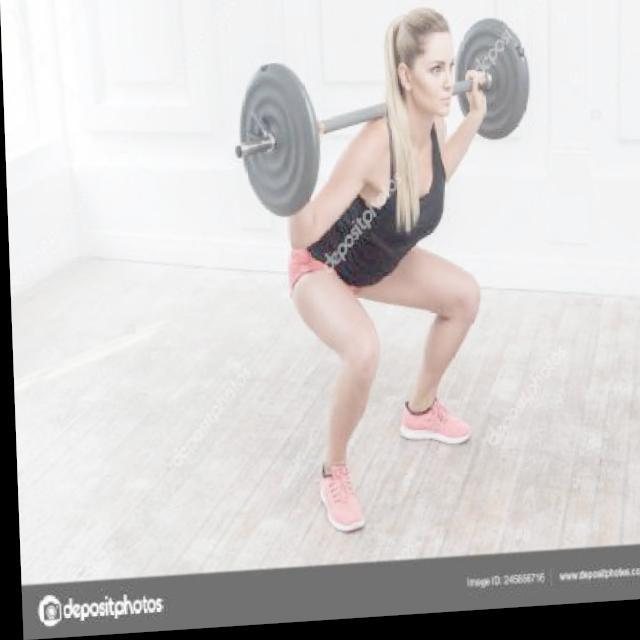barbell: (228, 61, 327, 229)
